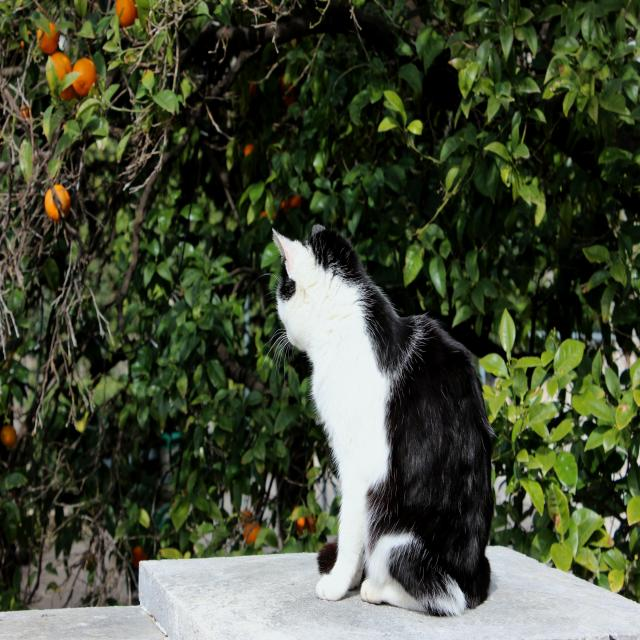cat: (263, 201, 507, 635)
